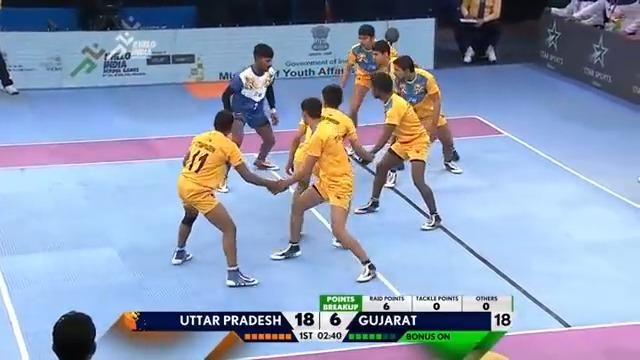Player: (268, 83, 377, 282), (170, 109, 288, 287), (353, 71, 443, 230), (389, 54, 463, 175)
Raider: (216, 42, 280, 192)
referee: (457, 0, 502, 63), (51, 310, 97, 359), (0, 0, 19, 95), (81, 0, 124, 30), (0, 50, 19, 95)
